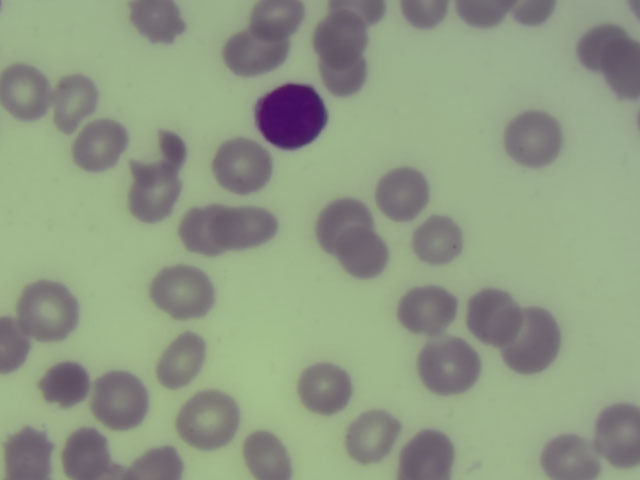RBC: (210, 205, 282, 256), (44, 70, 94, 139), (313, 194, 371, 250), (221, 30, 292, 75), (374, 166, 430, 221), (411, 214, 467, 269), (337, 228, 393, 283), (398, 280, 454, 335), (506, 313, 562, 368), (464, 287, 520, 342), (421, 342, 477, 397), (343, 406, 399, 461), (506, 111, 562, 166), (298, 358, 354, 413), (178, 394, 234, 449), (154, 331, 210, 386), (90, 370, 146, 425), (36, 360, 92, 415), (156, 263, 212, 318), (21, 285, 77, 340), (179, 204, 235, 259), (215, 139, 271, 194), (128, 125, 184, 180), (126, 172, 182, 227), (70, 117, 126, 172), (1, 425, 56, 480), (1, 67, 56, 122), (398, 425, 454, 479), (241, 425, 297, 479), (60, 425, 116, 479), (597, 399, 640, 467), (127, 1, 195, 43), (537, 431, 595, 479), (575, 21, 628, 70), (127, 436, 186, 479), (312, 16, 367, 62), (603, 35, 640, 98), (1, 313, 32, 382), (251, 1, 303, 42), (392, 1, 451, 33), (459, 1, 513, 32), (326, 1, 383, 26)
WBC: (255, 78, 333, 152)
